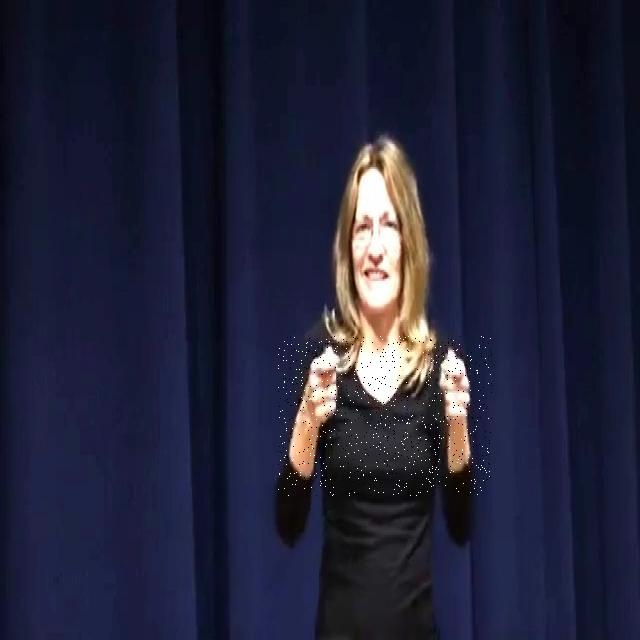manager: (278, 336, 492, 496)
